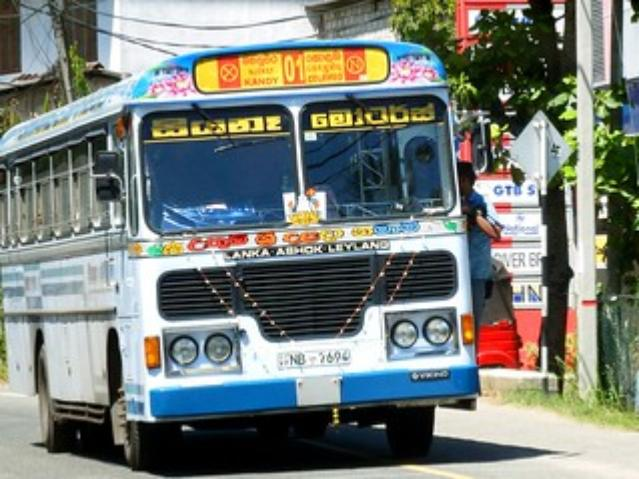bus: (2, 40, 482, 467)
